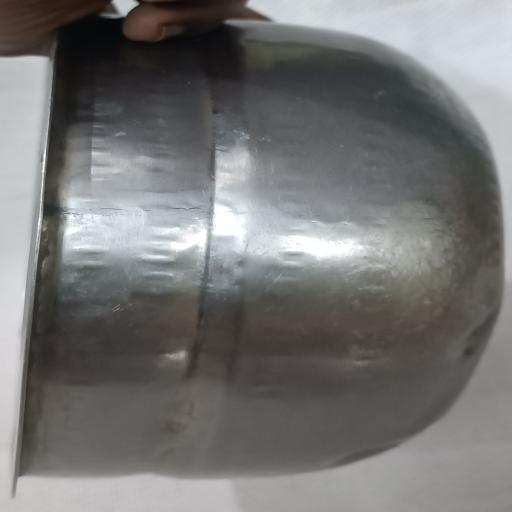vessel: (17, 18, 502, 477)
